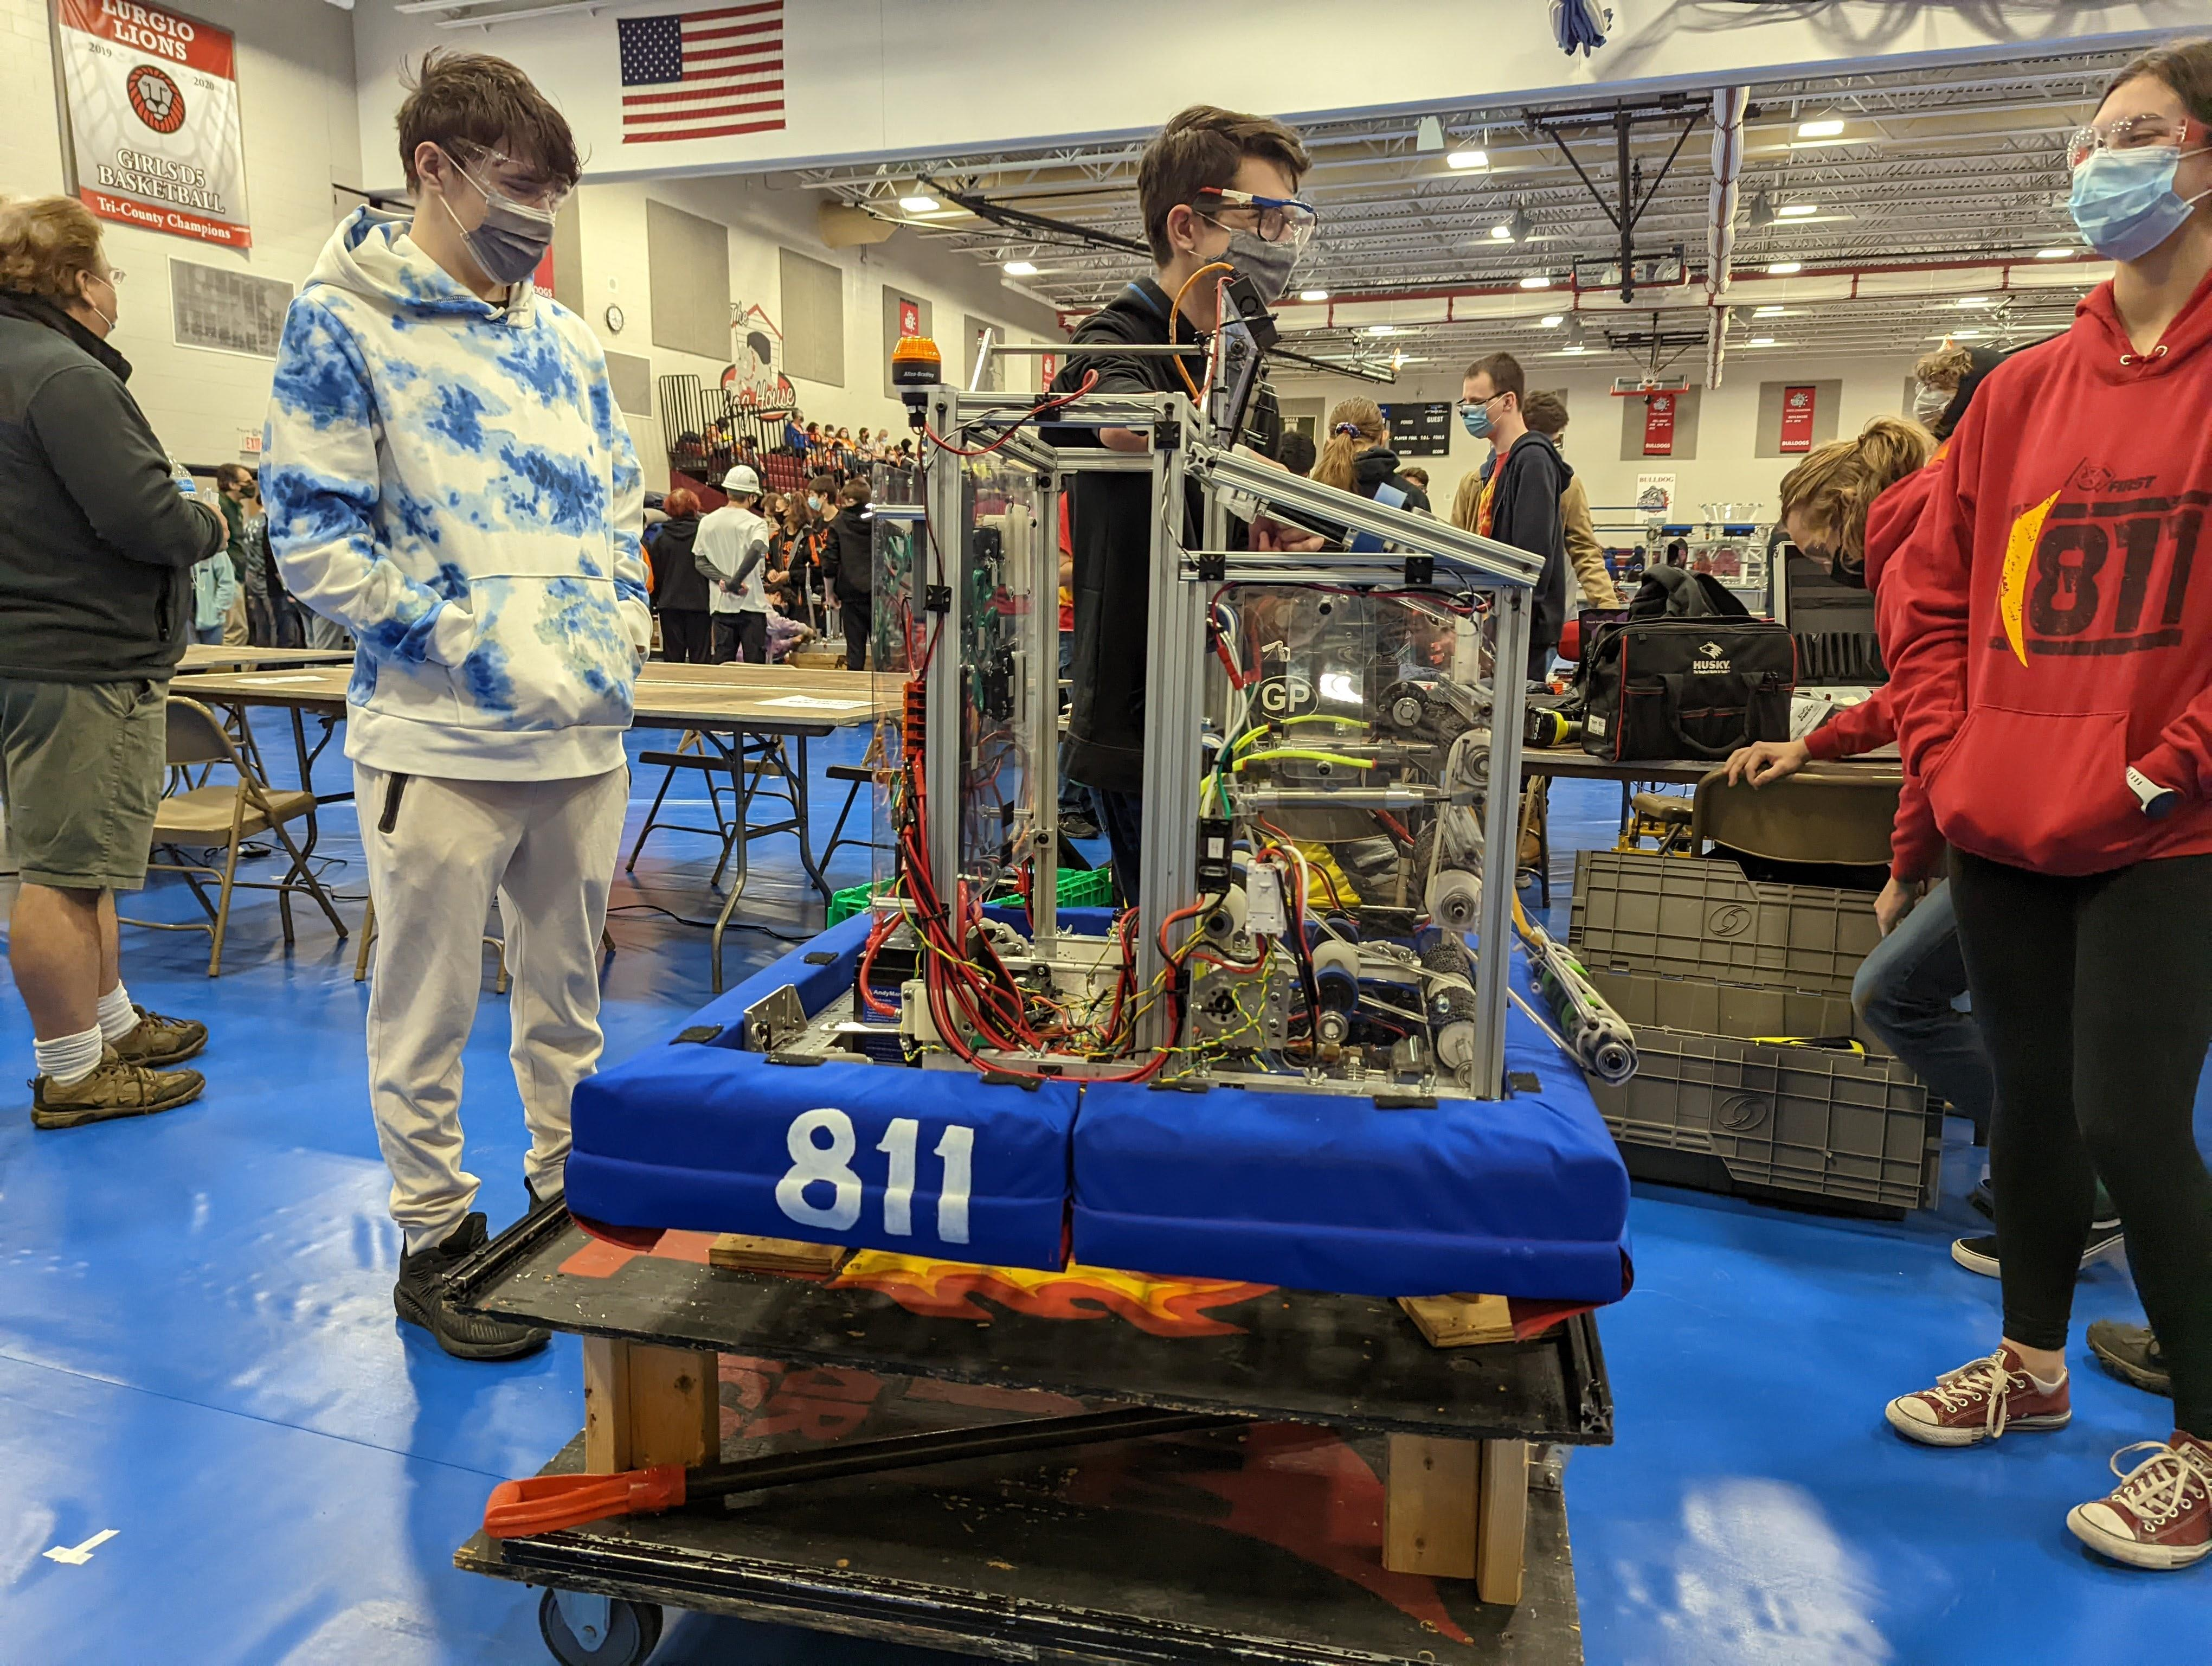robot: (561, 322, 1638, 1306)
